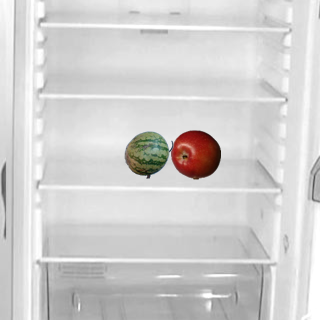Apple Braeburn: (170, 129, 220, 179)
Watermelon: (123, 129, 173, 179)
